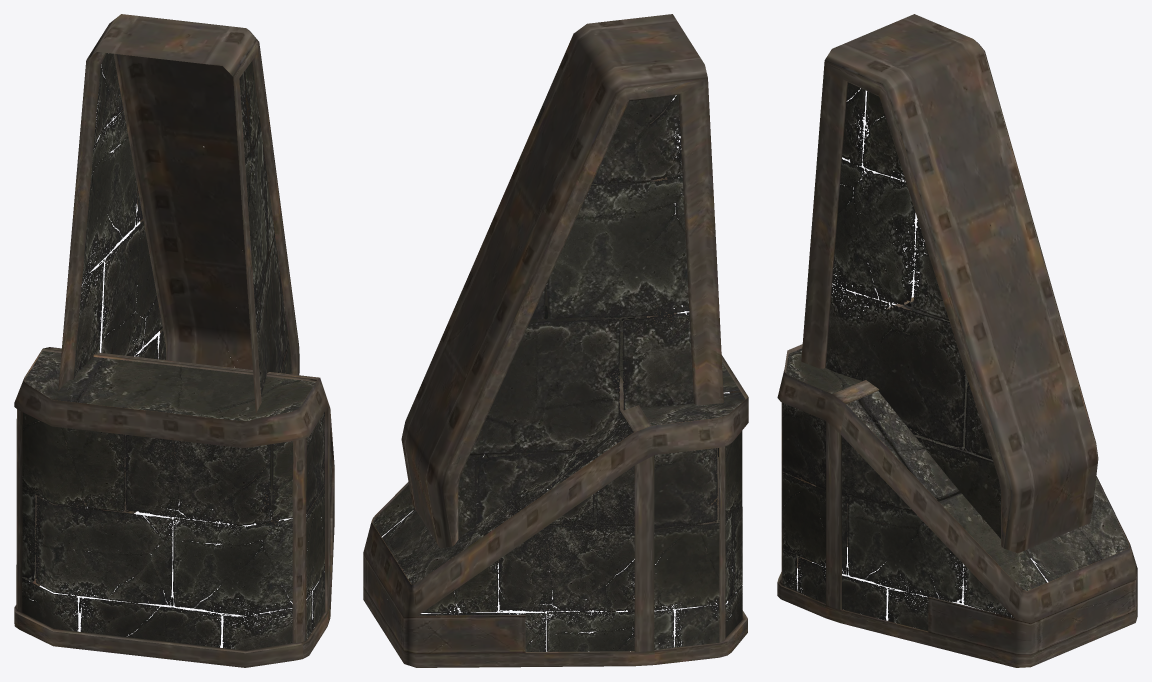
3 renders of one model, left to right at view 1: azimuth 30°, elevation 25°; view 2: azimuth 150°, elevation 25°; view 3: azimuth 270°, elevation 25°, orthographic. The views are drawn at different scales.
Parts seen in each view (by area): view 1: SM_Dowdun_Tower_Footings_L_02_LOD0; view 2: SM_Dowdun_Tower_Footings_L_02_LOD0; view 3: SM_Dowdun_Tower_Footings_L_02_LOD0.
Part boxes in pixels (box(x1,y1,x2,y2)): SM_Dowdun_Tower_Footings_L_02_LOD0: box(14, 14, 334, 667); SM_Dowdun_Tower_Footings_L_02_LOD0: box(363, 14, 748, 667); SM_Dowdun_Tower_Footings_L_02_LOD0: box(777, 14, 1137, 667).
Bounding box in the file's own units: 3.56 × 5.7 × 3.55.
Materials: 2 (2 with a texture image).
